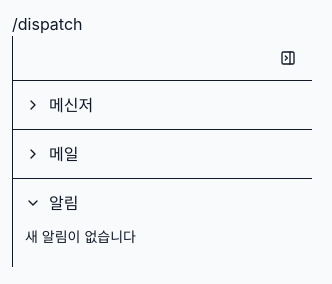
Test: CommsRail › section list states › shows the mail empty state when there are no threads
The width and height of the screenshot is (332, 284).
Click the button "메일" at (33, 154), box 25,130 -> 300,178
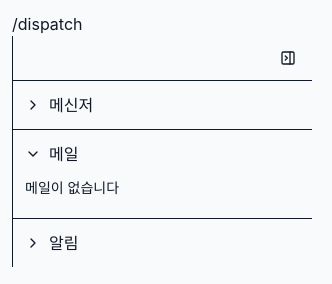
Now the text "메일이 없습니다" is shown, box 25,179 -> 119,196
